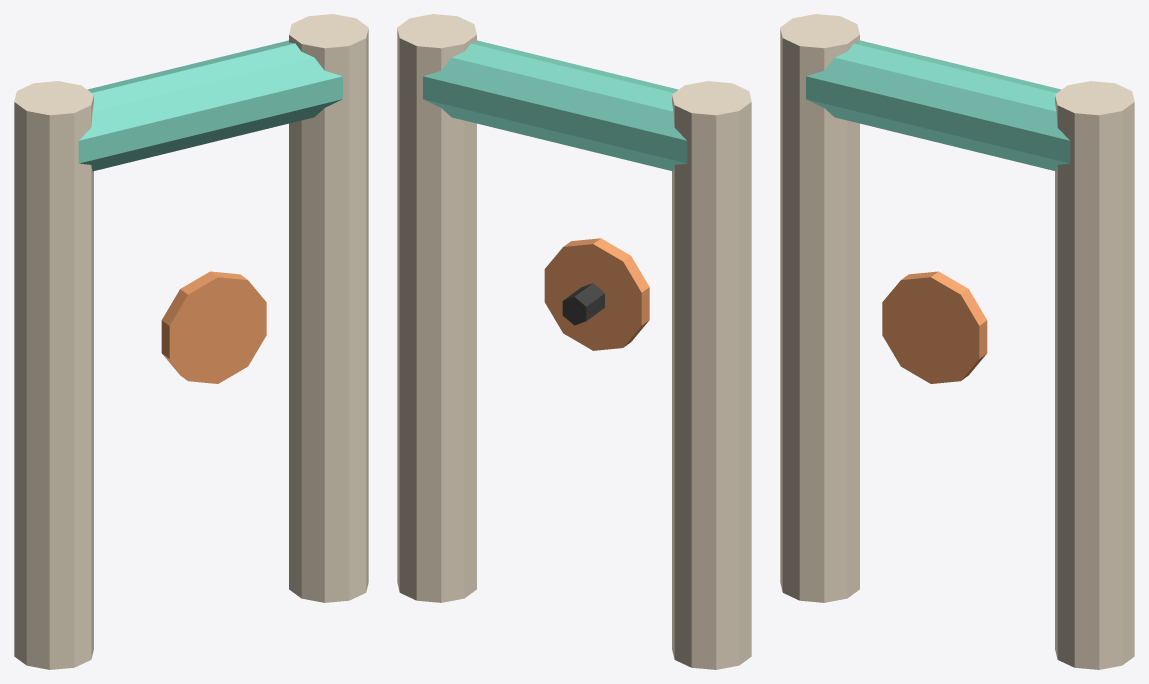
3 renders of one model, left to right at view 1: azimuth 30°, elevation 25°; view 2: azimuth 150°, elevation 25°; view 3: azimuth 330°, elevation 25°, orthographic.
Visible parts, largest first — view 1: Pipe, Pipe.001, Cross pipe, Valve; view 2: Pipe, Pipe.001, Cross pipe, Valve, Valve stem; view 3: Pipe.001, Pipe, Cross pipe, Valve.
Boxes of the visible parts, x1,y1,x2,y2 form: Pipe: [14, 81, 93, 669]; Pipe.001: [289, 14, 368, 602]; Cross pipe: [78, 40, 342, 171]; Valve: [161, 271, 266, 383]; Pipe: [672, 81, 751, 669]; Pipe.001: [397, 14, 476, 602]; Cross pipe: [423, 40, 687, 171]; Valve: [544, 238, 649, 350]; Valve stem: [562, 283, 604, 325]; Pipe.001: [1055, 81, 1134, 669]; Pipe: [780, 14, 859, 602]; Cross pipe: [806, 40, 1070, 171]; Valve: [882, 271, 987, 383].
Size of the model in its own units: 87.12 by 135 by 20.75.
